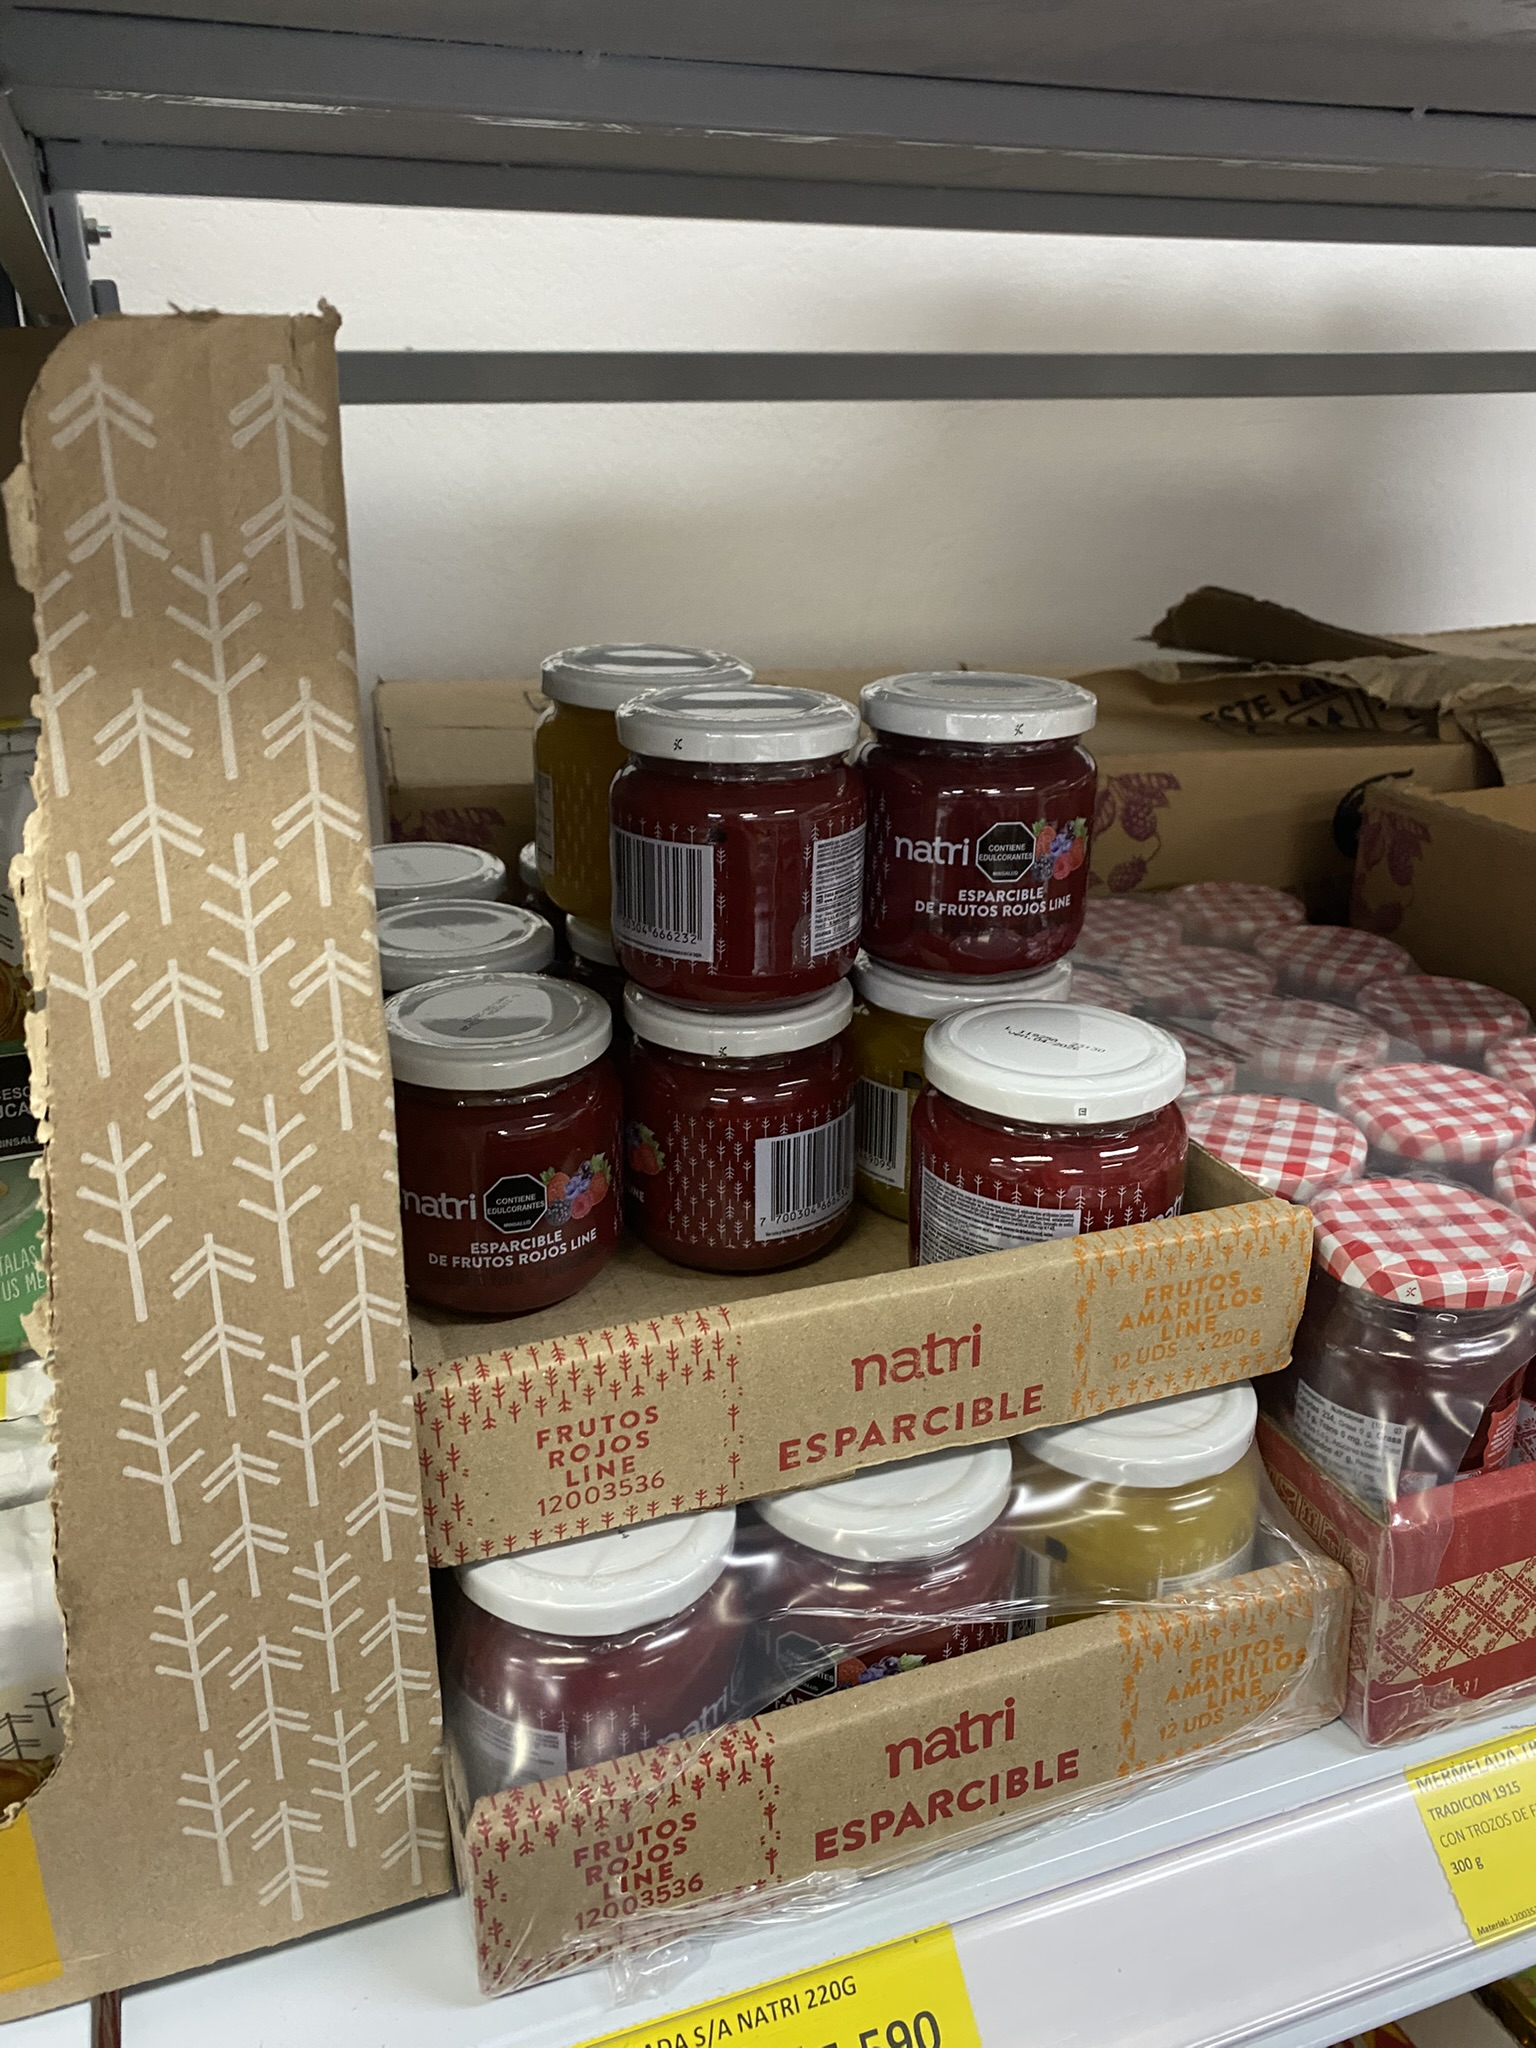Mermelada: (842, 660, 1099, 984), (615, 671, 863, 990), (376, 984, 611, 1287), (915, 1021, 1192, 1266), (626, 985, 845, 1248)
